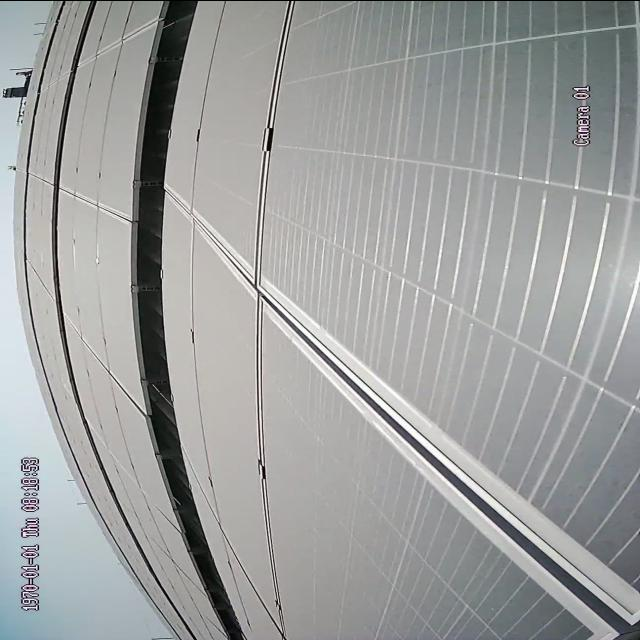interior panel: (172, 0, 640, 636), (78, 332, 141, 415), (84, 12, 151, 64), (65, 186, 127, 221)
outher panel: (131, 0, 246, 640)
